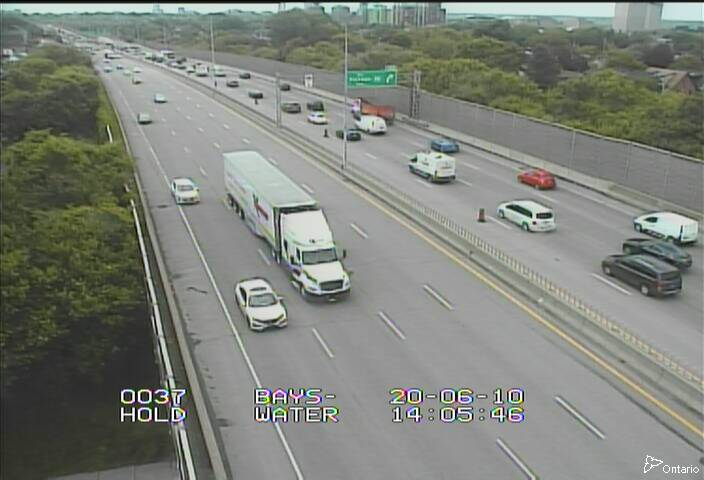time_stamp: (380, 407, 533, 429), (380, 385, 530, 406)
